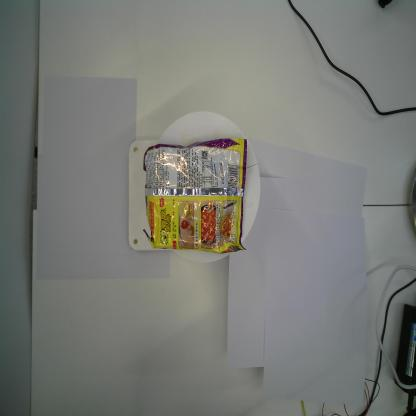Instant Noodles: (141, 135, 252, 255)
